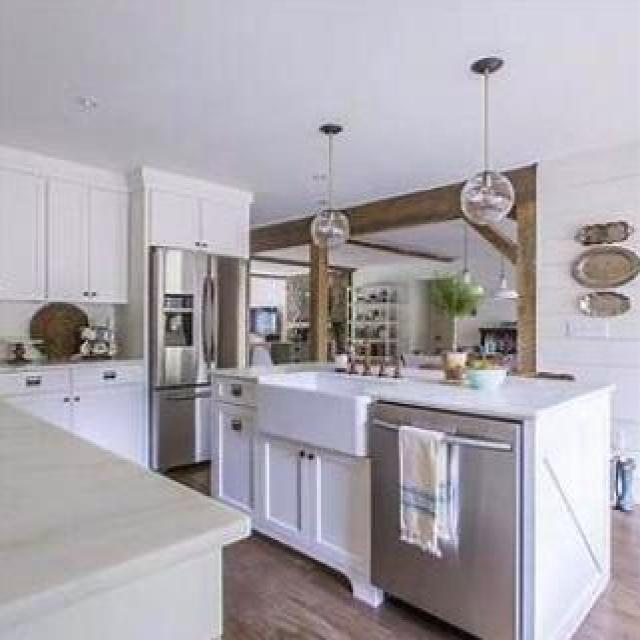dishwasher: (369, 396, 520, 638)
